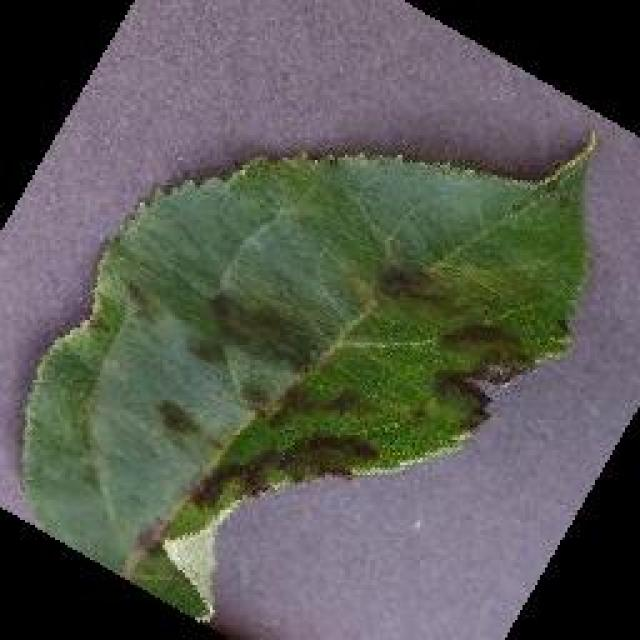apple scab disease: (18, 125, 600, 620)
